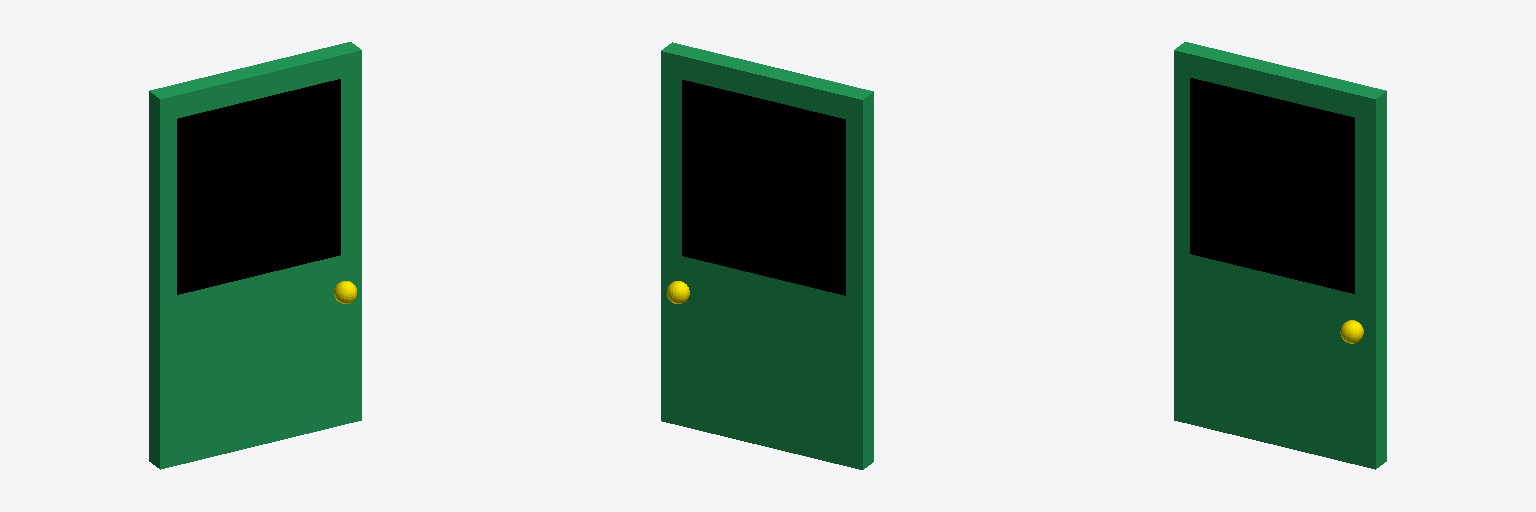
The picture shows the model from 3 angles: view 1: azimuth 30°, elevation 25°; view 2: azimuth 150°, elevation 25°; view 3: azimuth 330°, elevation 25°; orthographic projection.
Visible parts, largest first — view 1: pasted__polySurface9; view 2: pasted__polySurface9; view 3: pasted__polySurface9.
Boxes of the visible parts, x1,y1,x2,y2 form: pasted__polySurface9: [149, 42, 361, 469]; pasted__polySurface9: [661, 42, 873, 469]; pasted__polySurface9: [1174, 42, 1386, 469].
Size of the model in its own units: 0.9989 by 1.75 by 0.2514.
Materials: 2 (2 with a texture image).